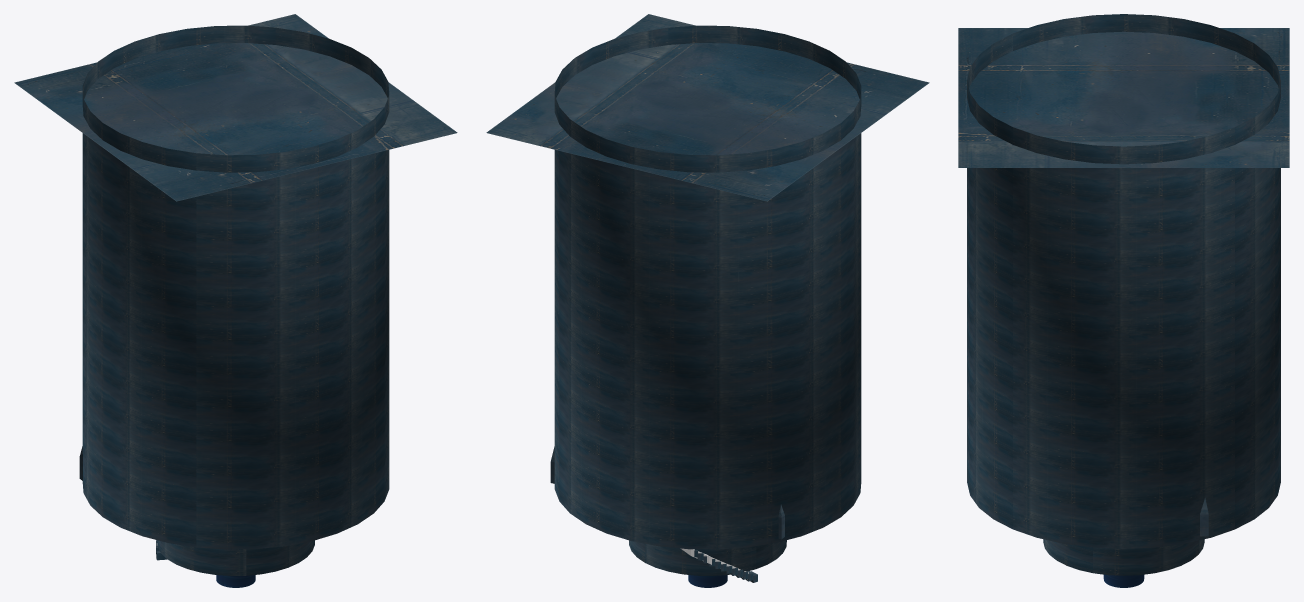
File: nuclear_pool2.glb
The picture shows the model from 3 angles, left to right: view 1: azimuth 30°, elevation 25°; view 2: azimuth 150°, elevation 25°; view 3: azimuth 270°, elevation 25°; orthographic projection. The views are drawn at different scales.
Visible parts, largest first — view 1: Cylinder; view 2: Cylinder; view 3: Cylinder.
Boxes of the visible parts, box(x1,y1,x2,y2) form: Cylinder: box(14, 14, 457, 587); Cylinder: box(486, 14, 929, 587); Cylinder: box(958, 14, 1289, 587).
Size of the model in its own units: 18.23 by 30.27 by 18.23.
Materials: 2 (2 with a texture image).
